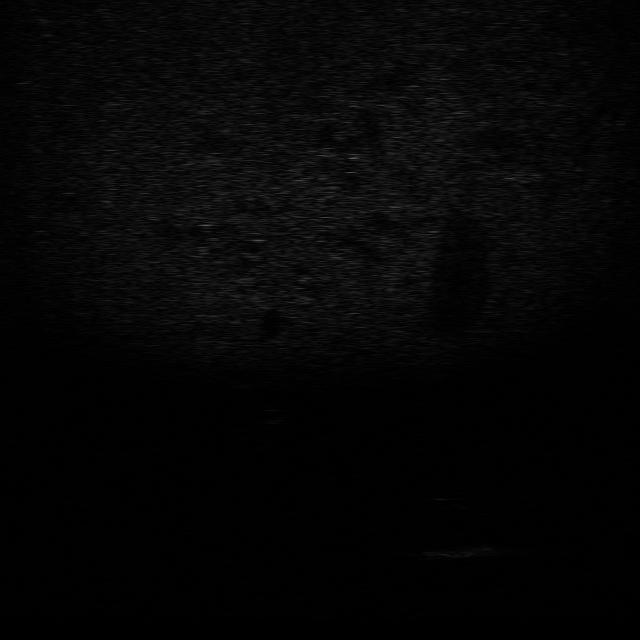ball: (250, 405, 290, 426)
metal bucket: (415, 539, 507, 562)
tyre: (436, 487, 502, 514)
